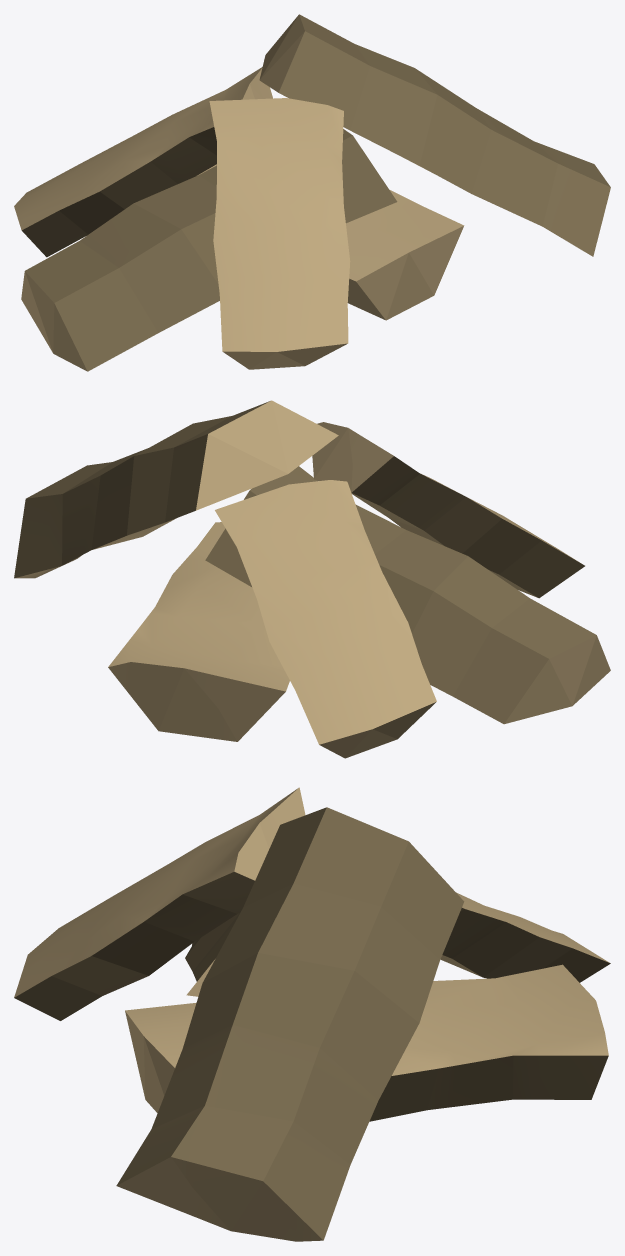
Rendered from Hut_tinderwood.fbx.
The picture shows the model from 3 angles, top to bottom: view 1: azimuth 30°, elevation 25°; view 2: azimuth 150°, elevation 25°; view 3: azimuth 270°, elevation 25°; orthographic projection. The views are drawn at different scales.
Visible parts, largest first — view 1: pasted__pasted__pCylinder7; view 2: pasted__pasted__pCylinder7; view 3: pasted__pasted__pCylinder7.
Boxes of the visible parts, x1,y1,x2,y2 form: pasted__pasted__pCylinder7: [14, 14, 610, 371]; pasted__pasted__pCylinder7: [14, 400, 610, 758]; pasted__pasted__pCylinder7: [14, 787, 610, 1241].
Bounding box in the file's own units: 2.13 × 0.9072 × 1.66.
